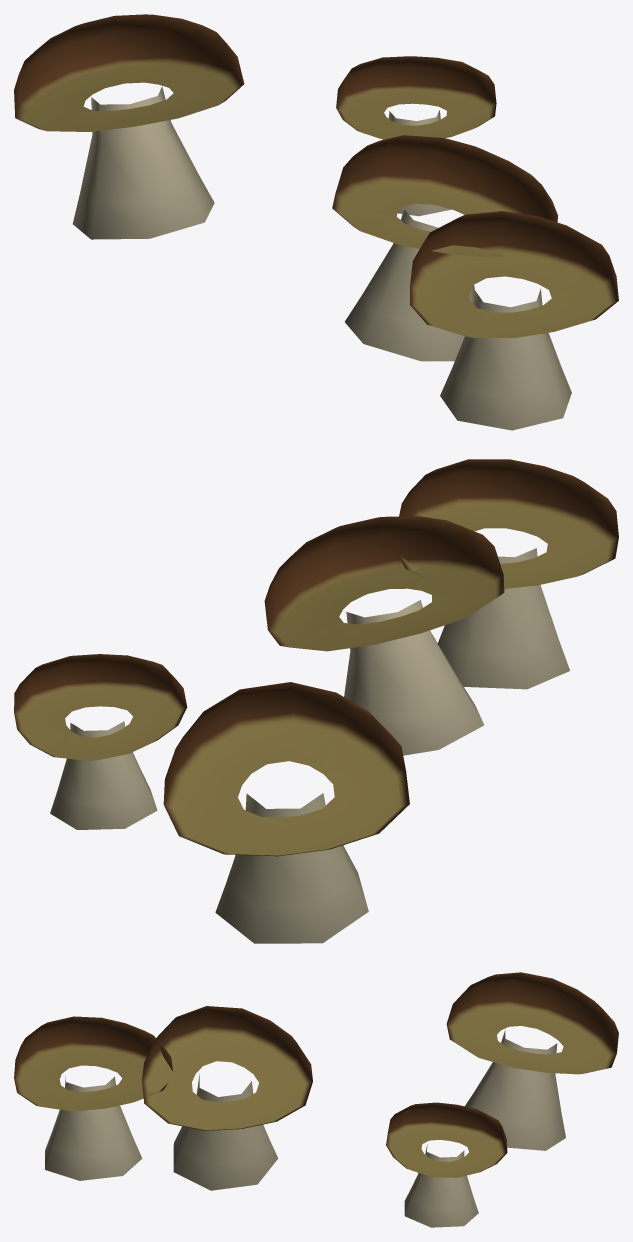
File: mushroom-porcini-b.lod0.glb
The picture shows the model from 3 angles, top to bottom: view 1: azimuth 30°, elevation 25°; view 2: azimuth 150°, elevation 25°; view 3: azimuth 270°, elevation 25°; orthographic projection. The views are drawn at different scales.
Visible parts, largest first — view 1: mushroom-porcini-b.lod0; view 2: mushroom-porcini-b.lod0; view 3: mushroom-porcini-b.lod0.
Boxes of the visible parts, box(x1,y1,x2,y2) form: mushroom-porcini-b.lod0: box(14, 14, 618, 430); mushroom-porcini-b.lod0: box(14, 459, 618, 943); mushroom-porcini-b.lod0: box(14, 972, 618, 1227).
Bounding box in the file's own units: 0.2896 × 0.1343 × 0.4947.
